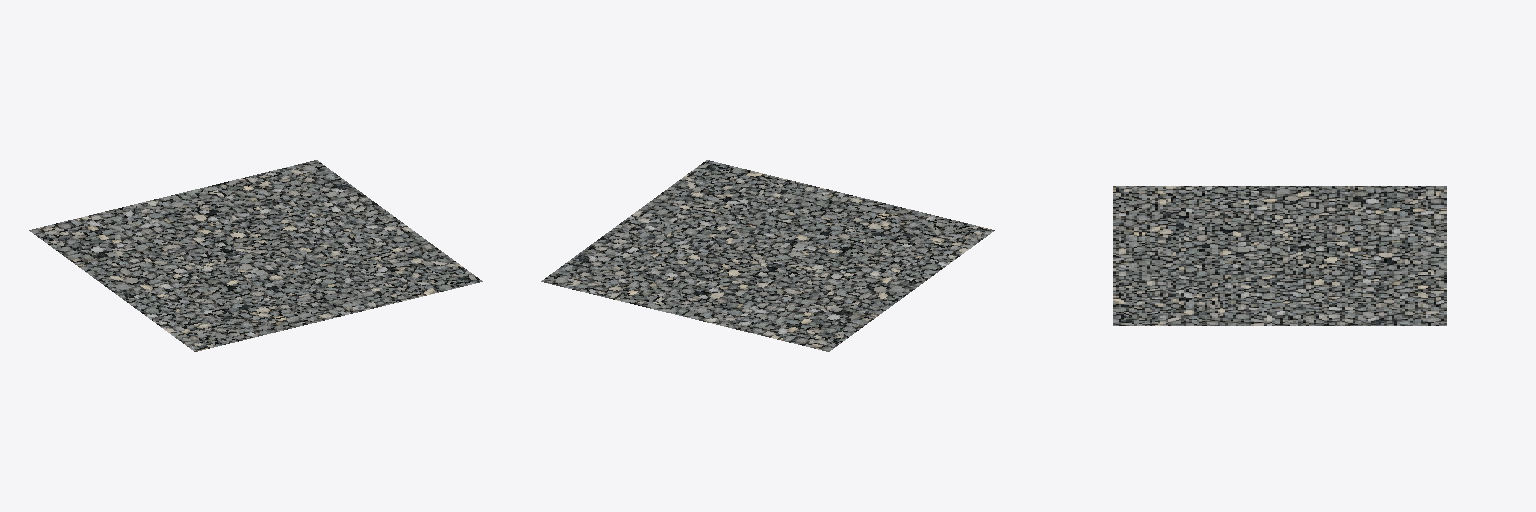
3 views of the same model, side by side, from view 1: azimuth 30°, elevation 25°; view 2: azimuth 150°, elevation 25°; view 3: azimuth 270°, elevation 25° (orthographic).
Parts seen in each view (by area): view 1: BStreet; view 2: BStreet; view 3: BStreet.
Part boxes in pixels (left/top/right/bottom): BStreet: left=29, top=160, right=482, bottom=351; BStreet: left=541, top=160, right=994, bottom=351; BStreet: left=1113, top=186, right=1446, bottom=325.
Bounding box in the file's own units: 1 × 0 × 1.
Materials: 1 (1 with a texture image).